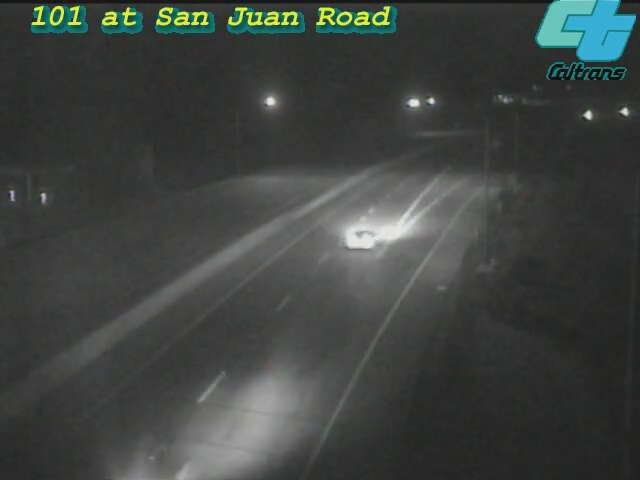vehicle: (319, 198, 399, 278), (1, 240, 74, 320), (567, 90, 617, 140), (604, 87, 640, 137)
